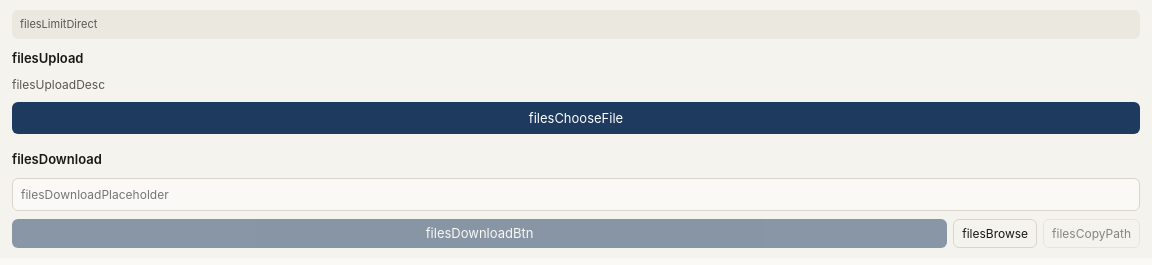
Test: FilesPanel 下载 › FilesPanel_CopyPathButton_1
Check: the button "filesCopyPath" is disabled, box [1043, 218, 1140, 248]
In the field with class "dl-input": {"x": 576, "y": 194} [12, 178, 1140, 210], type ".cc-box-files/a.jpg"
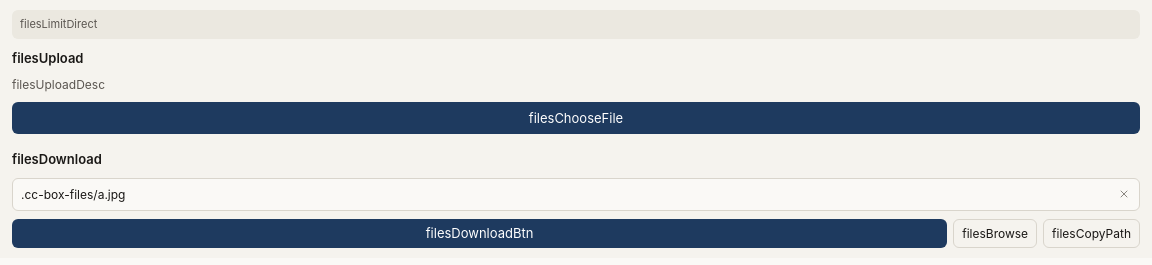
Click the button "filesCopyPath": {"x": 1092, "y": 233} [1043, 218, 1140, 248]
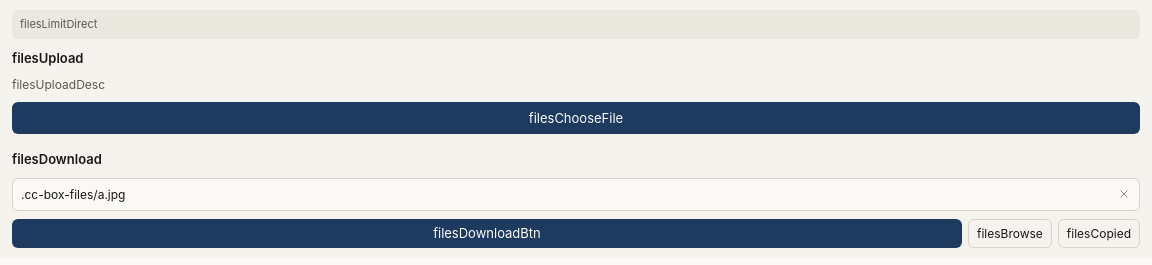
Check: the button "filesCopied" is shown, box [1058, 218, 1140, 248]
